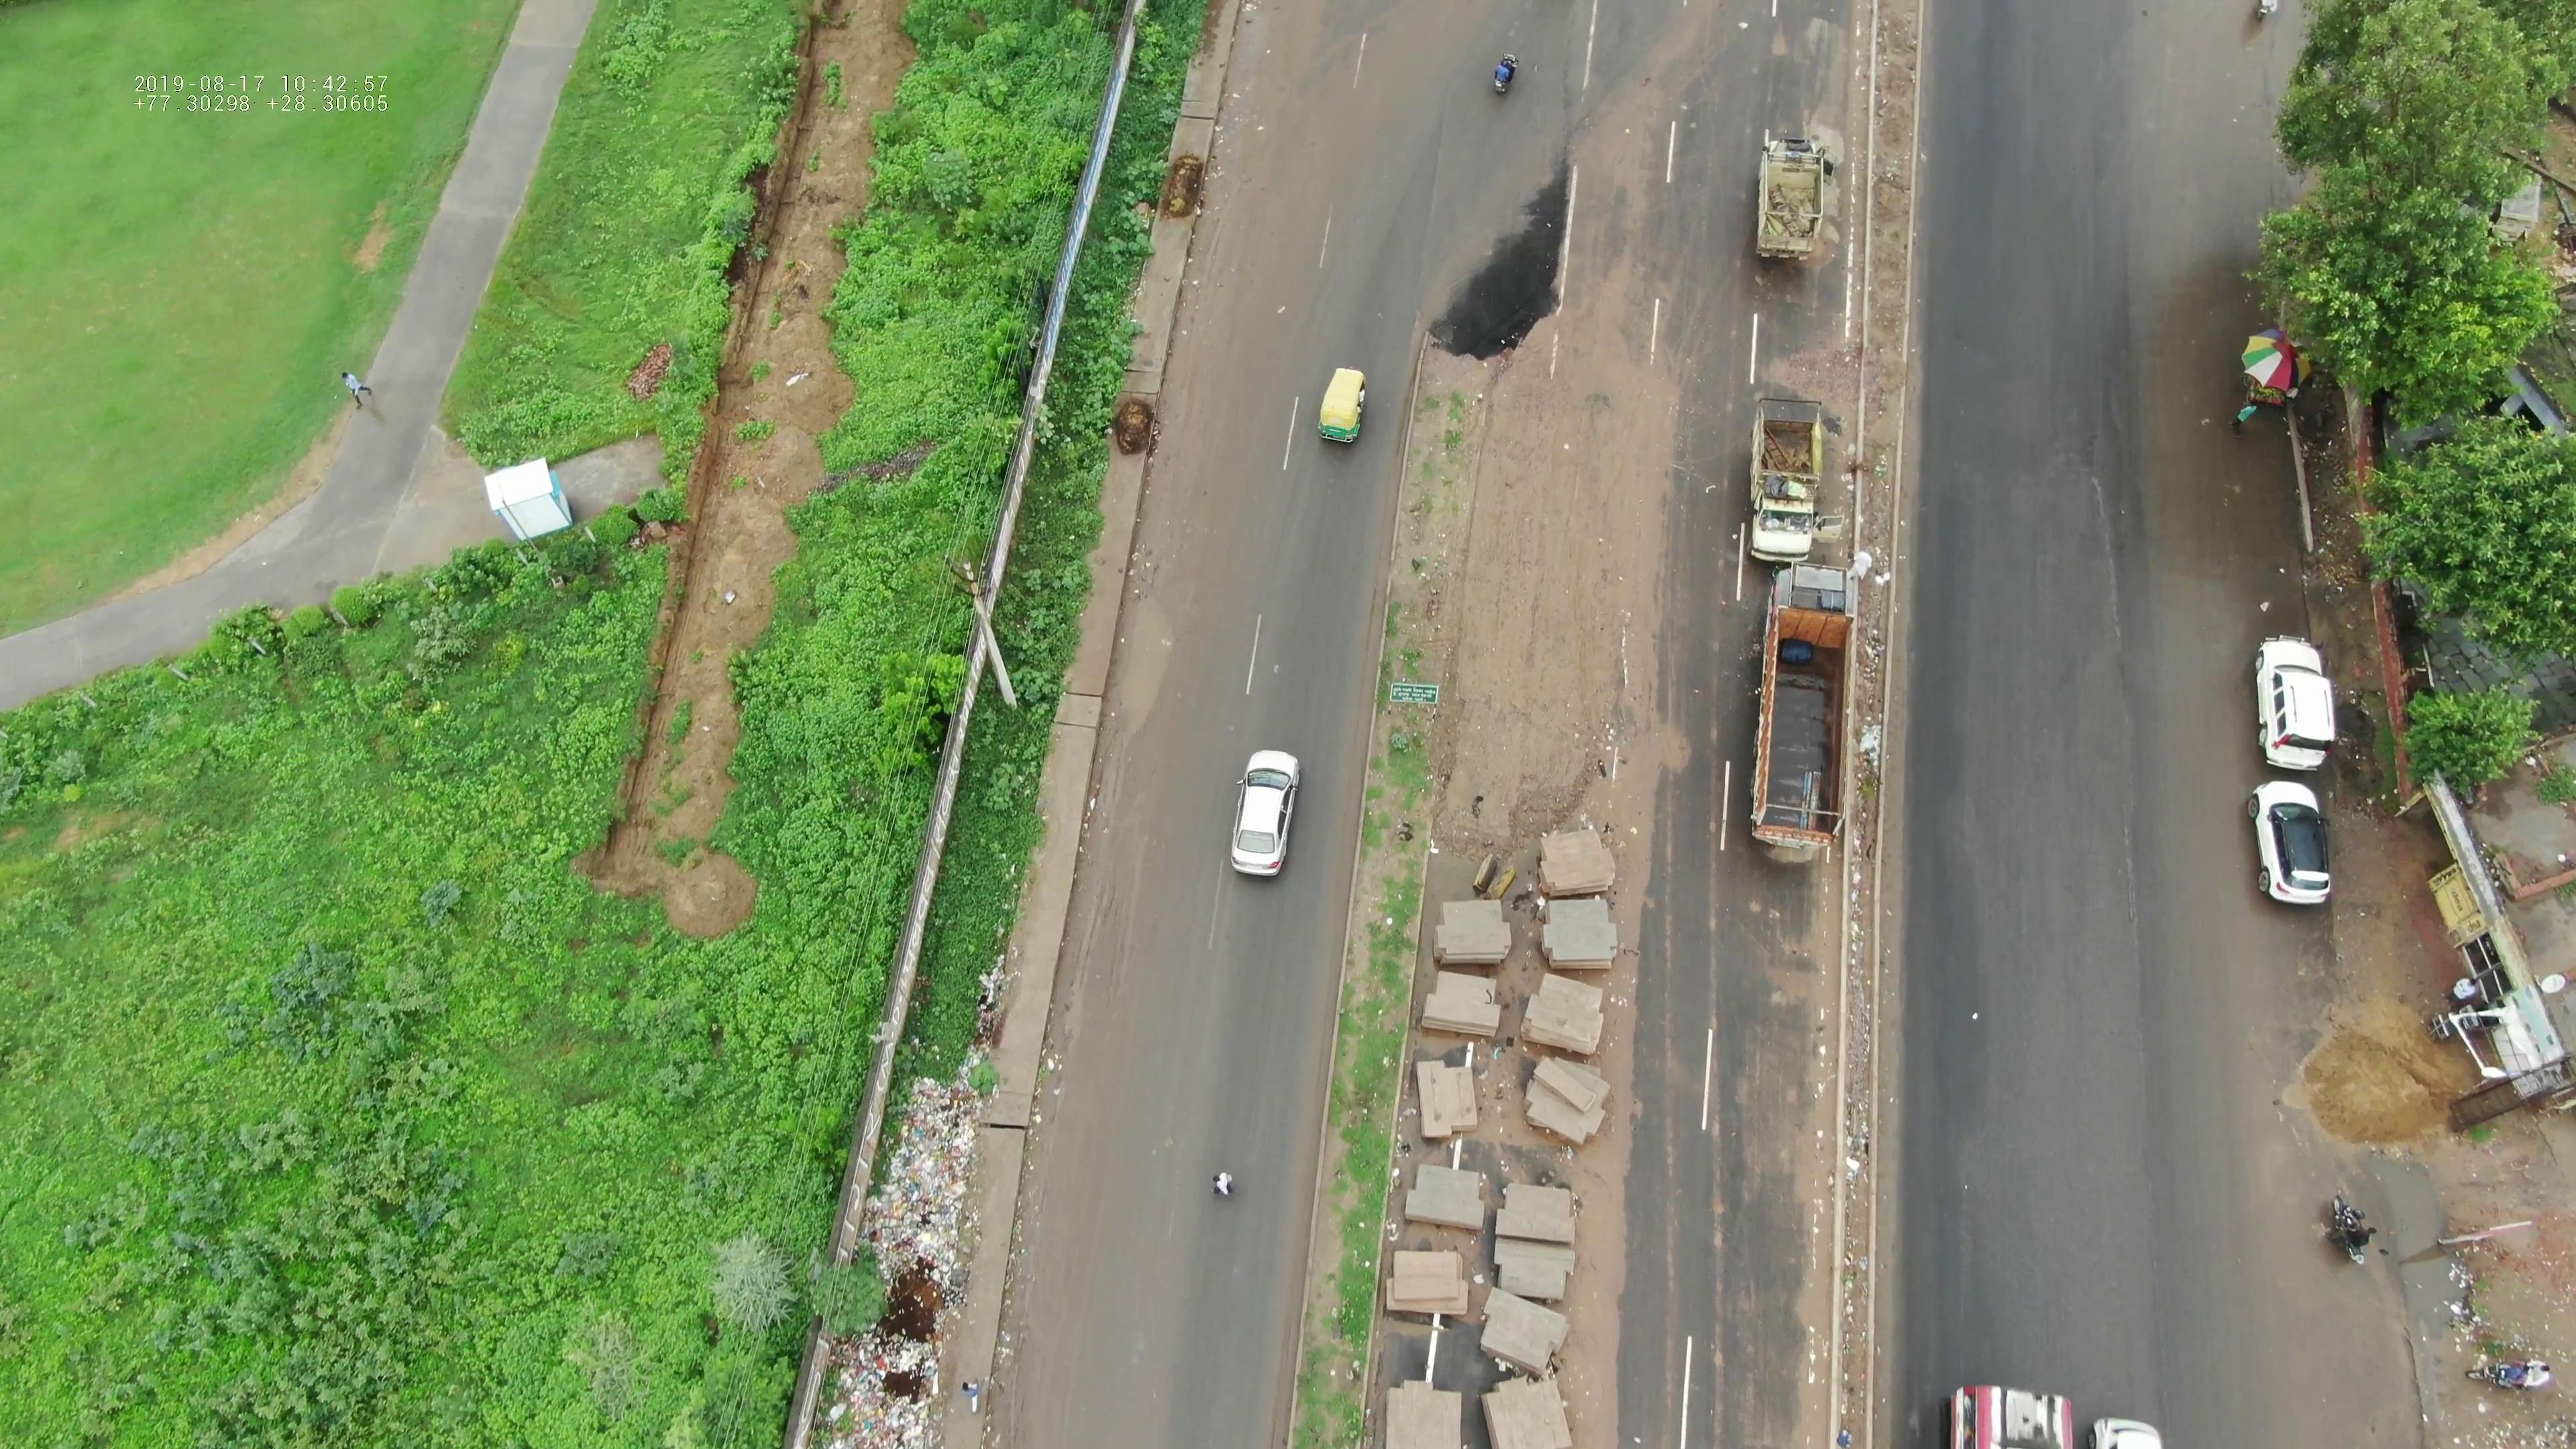Muddy_road: (1104, 421, 1221, 660), (1063, 708, 1155, 991)
Road_side_garbage: (846, 1085, 991, 1435)
